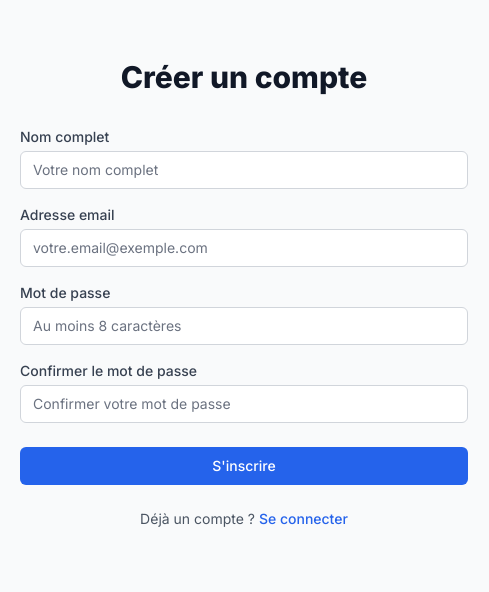
Test: FormulaireInscription › Effacement des erreurs lors de la saisie › efface l'erreur du nom quand l'utilisateur commence à taper
Click the button "S'inscrire" at [244, 466], box 20,447 -> 468,485
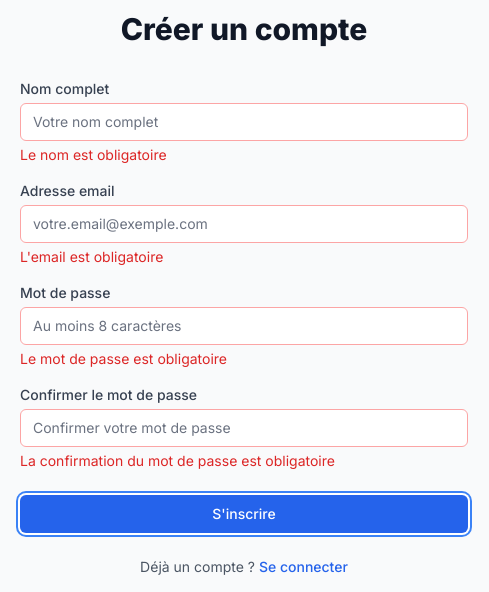
Expected: the text "Le nom est obligatoire" is shown, 20,146 -> 167,163
Type "J" into the field labelled "Nom complet" at [244, 122], box 20,103 -> 468,141
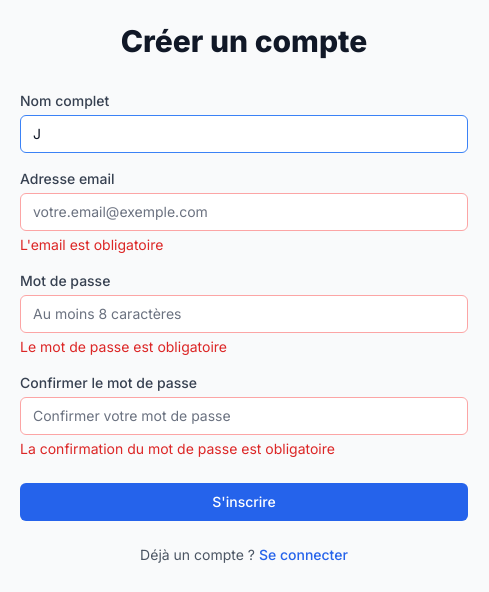
Expected: the text "Le nom est obligatoire" is gone
